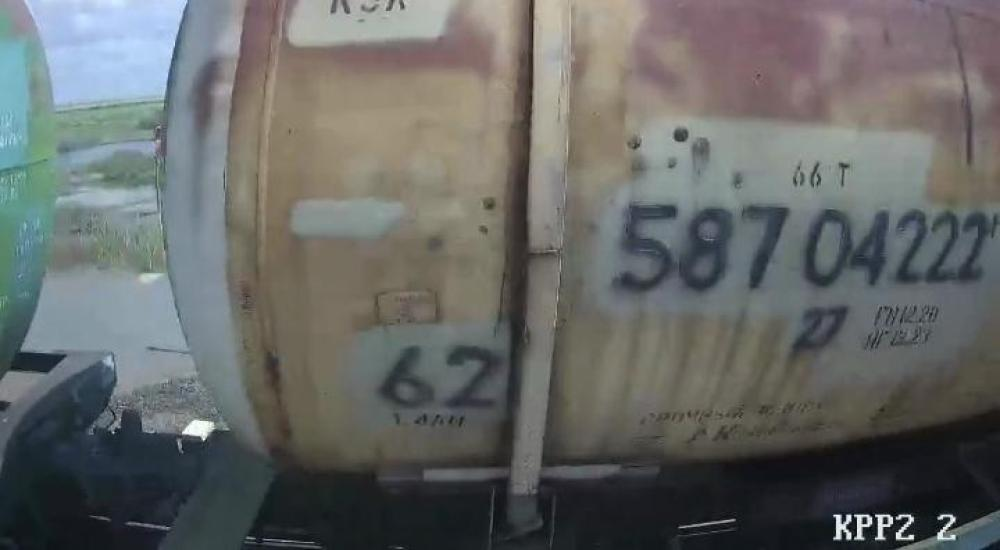Wagon-number: (614, 198, 991, 297)
